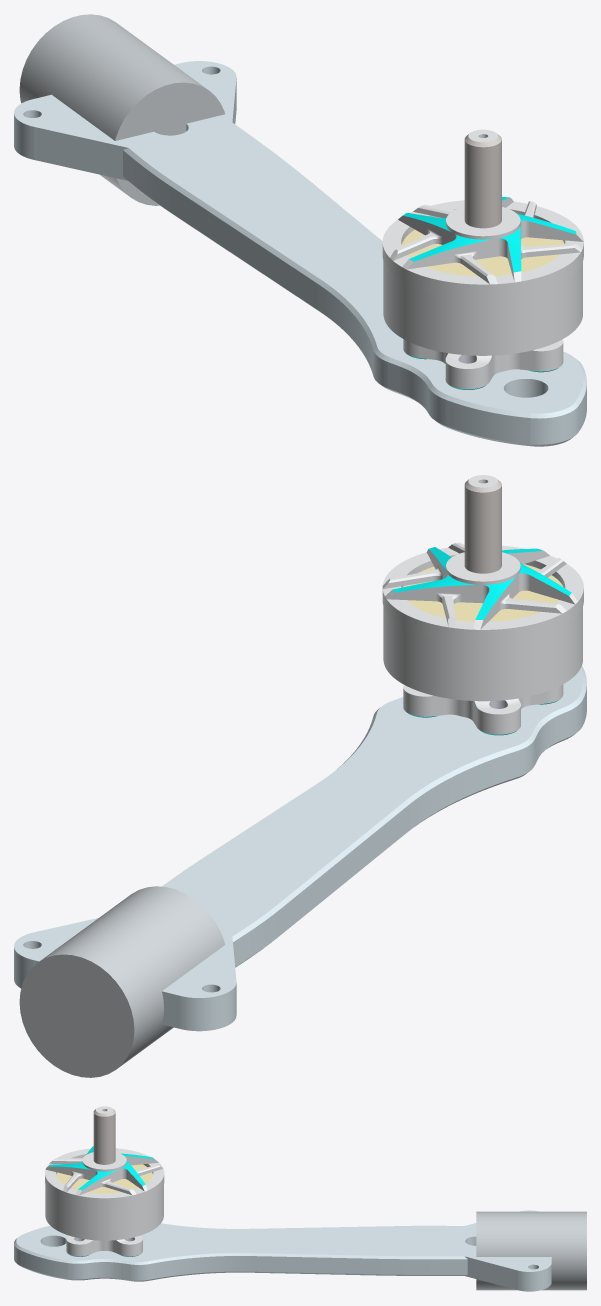
Rendered from motor_arm.dae.
The picture shows the model from 3 angles, top to bottom: view 1: azimuth 30°, elevation 25°; view 2: azimuth 150°, elevation 25°; view 3: azimuth 270°, elevation 25°; orthographic projection. The views are drawn at different scales.
Parts seen in each view (by area): view 1: motor_arm; view 2: motor_arm; view 3: motor_arm.
Boxes of the visible parts, bbox=[...] form: motor_arm: bbox=[14, 14, 586, 446]; motor_arm: bbox=[14, 475, 586, 1077]; motor_arm: bbox=[14, 1106, 586, 1291].
Size of the model in its own units: 0.0329 by 0.1295 by 0.044.
